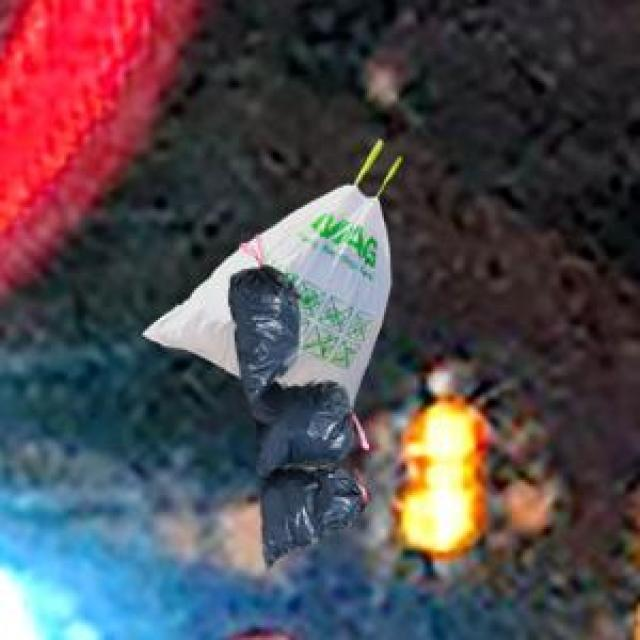miscellaneous trash: (226, 260, 363, 565)
